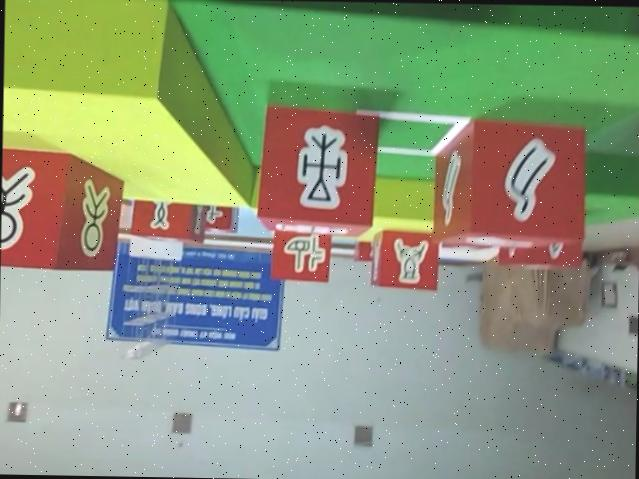R2 Real: (429, 116, 588, 253), (253, 99, 382, 240), (0, 145, 127, 274), (368, 225, 441, 292), (266, 218, 333, 287), (126, 190, 207, 243)
